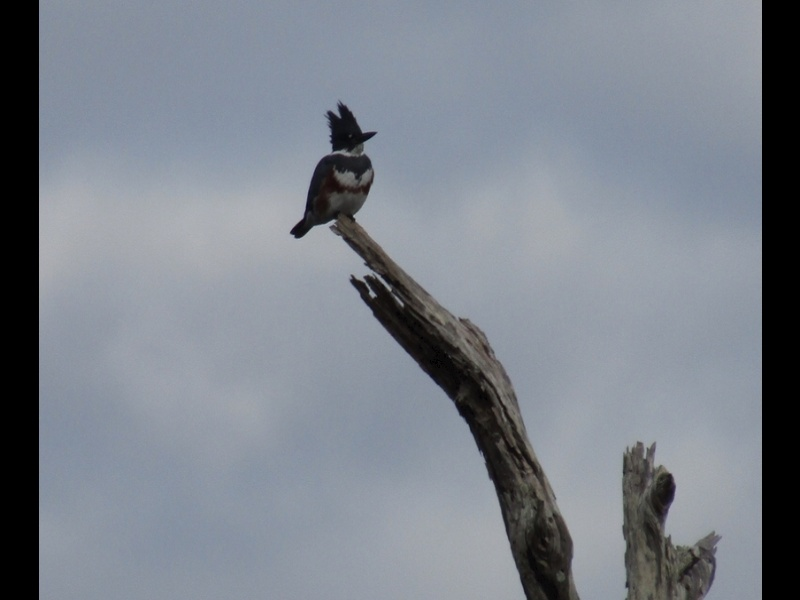kingfisher: (287, 97, 378, 241)
